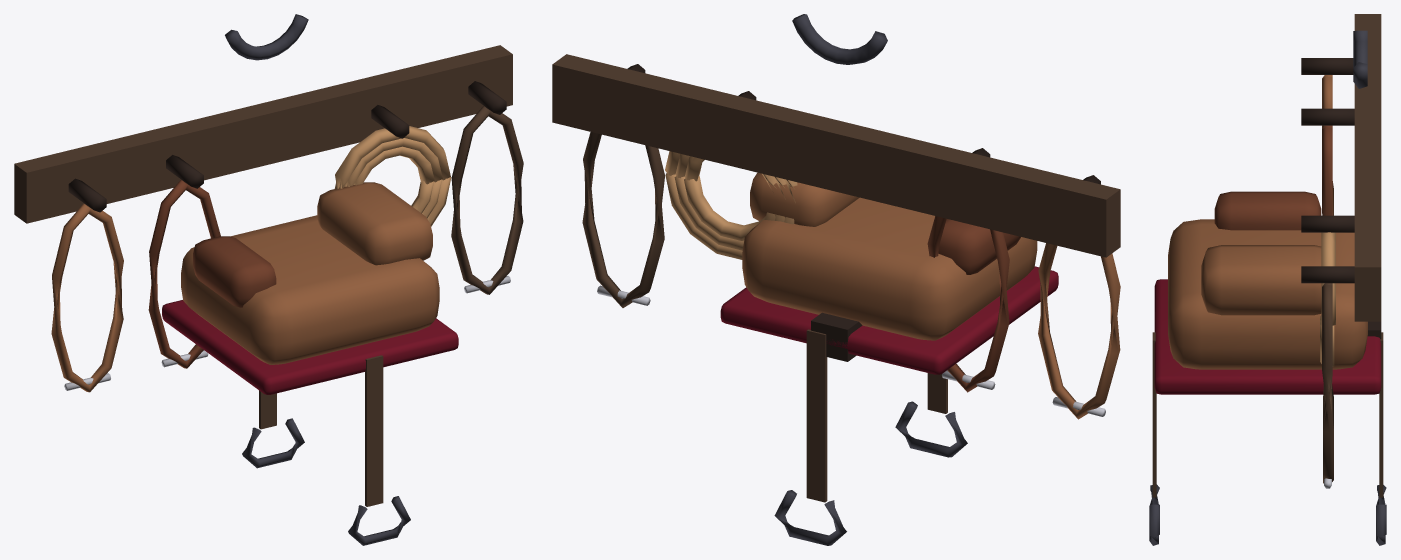
File: tack.glb
3 renders of one model, left to right at view 1: azimuth 30°, elevation 25°; view 2: azimuth 150°, elevation 25°; view 3: azimuth 270°, elevation 25°, orthographic. The views are drawn at different scales.
Parts seen in each view (by area): view 1: tack; view 2: tack; view 3: tack.
Part boxes in pixels (left/top/right/bottom): tack: left=14, top=14, right=523, bottom=545; tack: left=552, top=14, right=1120, bottom=545; tack: left=1149, top=14, right=1386, bottom=545.
Size of the model in its own units: 0.9 by 0.7986 by 0.356.
